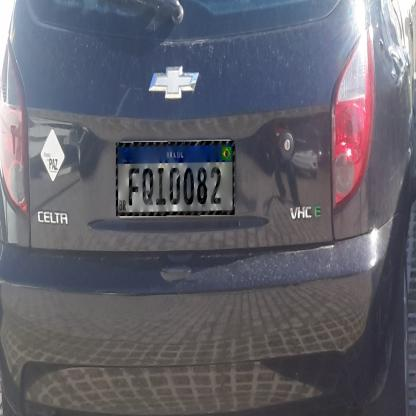PlacaM: (116, 141, 235, 216)
